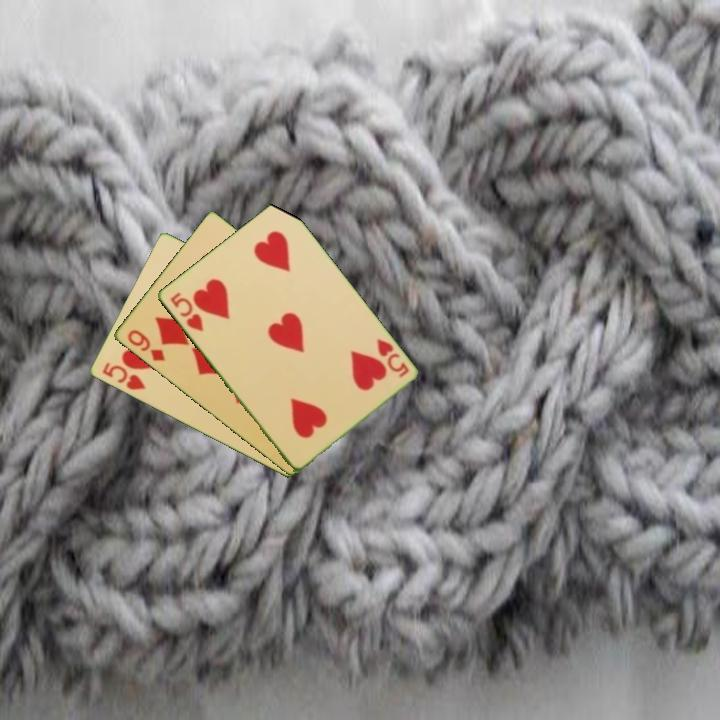5h: (166, 288, 206, 334), (372, 335, 412, 381), (98, 359, 148, 393)
9d: (123, 326, 168, 364)
